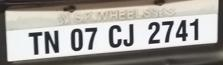0: (69, 28, 84, 52)
1: (189, 18, 202, 40)
2: (148, 22, 162, 46)
4: (176, 16, 188, 45)
7: (83, 25, 98, 52), (162, 18, 175, 43)
C: (107, 24, 124, 49)
J: (122, 22, 136, 48)
N: (44, 29, 61, 55)
T: (26, 30, 46, 56)
